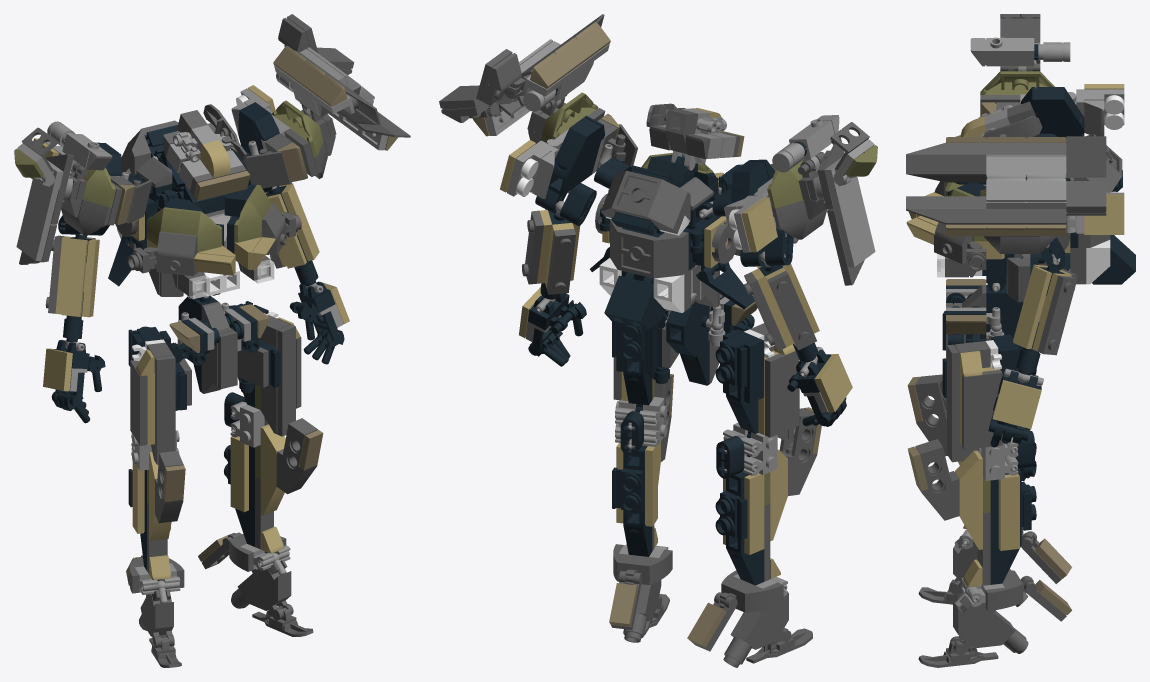
File: sap-03t-oryx.dae
3 views of the same model, side by side, from view 1: azimuth 30°, elevation 25°; view 2: azimuth 150°, elevation 25°; view 3: azimuth 270°, elevation 25° (orthographic). The views are drawn at different scales.
Size of the model in its own units: 433 by 230 by 622.
